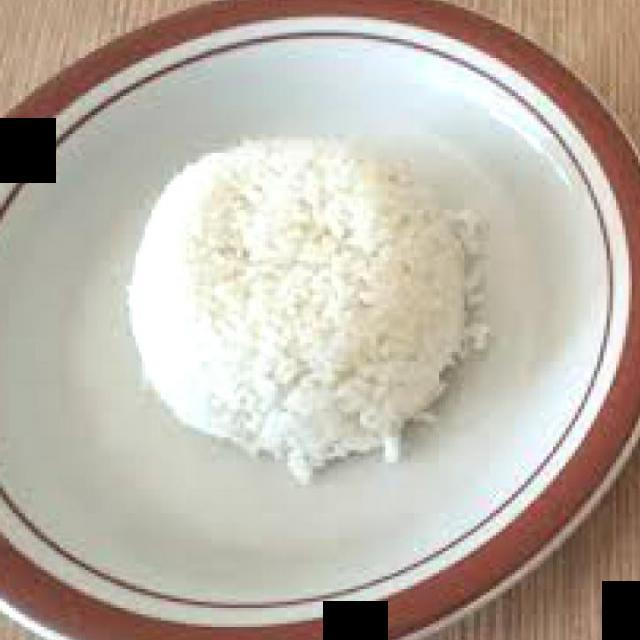rice: (127, 133, 464, 481)
